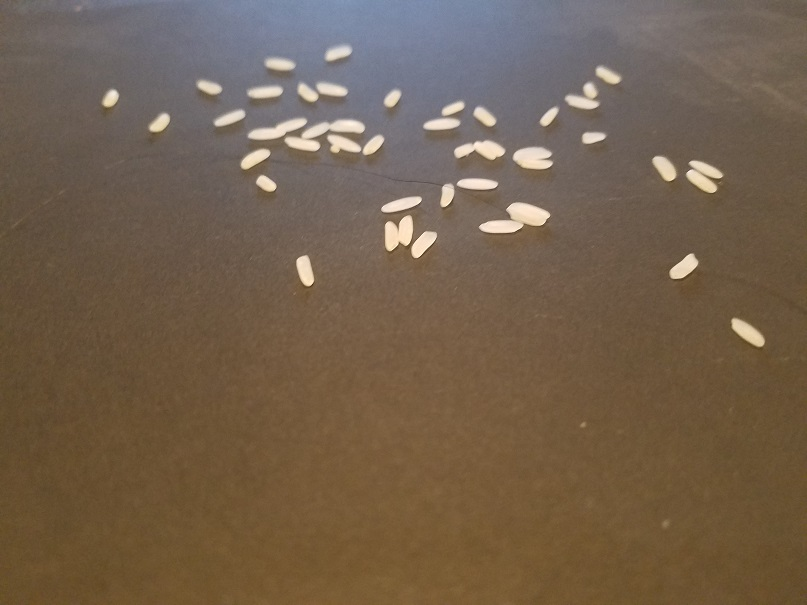egg: (728, 315, 768, 346), (684, 168, 720, 196), (380, 193, 423, 216), (669, 251, 701, 281), (651, 152, 678, 186), (687, 156, 725, 179), (409, 229, 438, 259), (294, 253, 318, 289), (507, 202, 552, 221), (323, 134, 364, 154), (212, 107, 251, 128), (239, 147, 271, 172), (564, 92, 602, 113), (478, 218, 527, 234), (505, 207, 545, 226), (456, 176, 502, 191), (284, 135, 322, 153), (300, 120, 331, 142), (262, 54, 298, 72), (315, 81, 349, 100), (383, 218, 401, 253), (420, 116, 462, 131), (323, 42, 353, 63), (472, 104, 498, 128), (245, 84, 286, 99), (326, 117, 367, 132), (398, 213, 415, 248), (148, 111, 172, 135), (537, 104, 560, 129), (295, 81, 320, 104), (197, 77, 225, 97), (596, 65, 624, 85), (578, 128, 609, 146), (381, 86, 402, 112), (440, 98, 467, 118), (512, 146, 551, 159), (362, 133, 385, 155), (98, 87, 122, 108), (513, 158, 555, 170), (483, 137, 506, 158), (438, 183, 456, 209), (253, 175, 280, 192), (475, 140, 496, 161), (580, 80, 599, 101), (453, 142, 474, 159), (328, 141, 342, 155)
